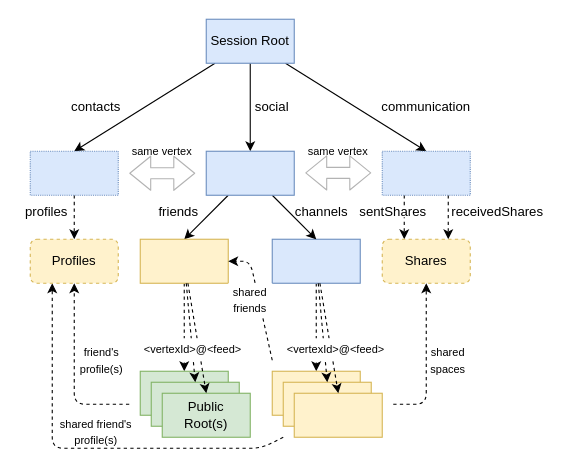
The diagram is 562 pixels wide and 476 high, and some of its shapes have lost their labels. The shapes that lost their labels are listed below. From the top down, each one's box as (x1, y1, x2, y2) in pixels, then its label:
(29, 150, 118, 195): Contacts View
(381, 150, 470, 195): Comm. View
(293, 392, 382, 437): Comm. Channel(s)
